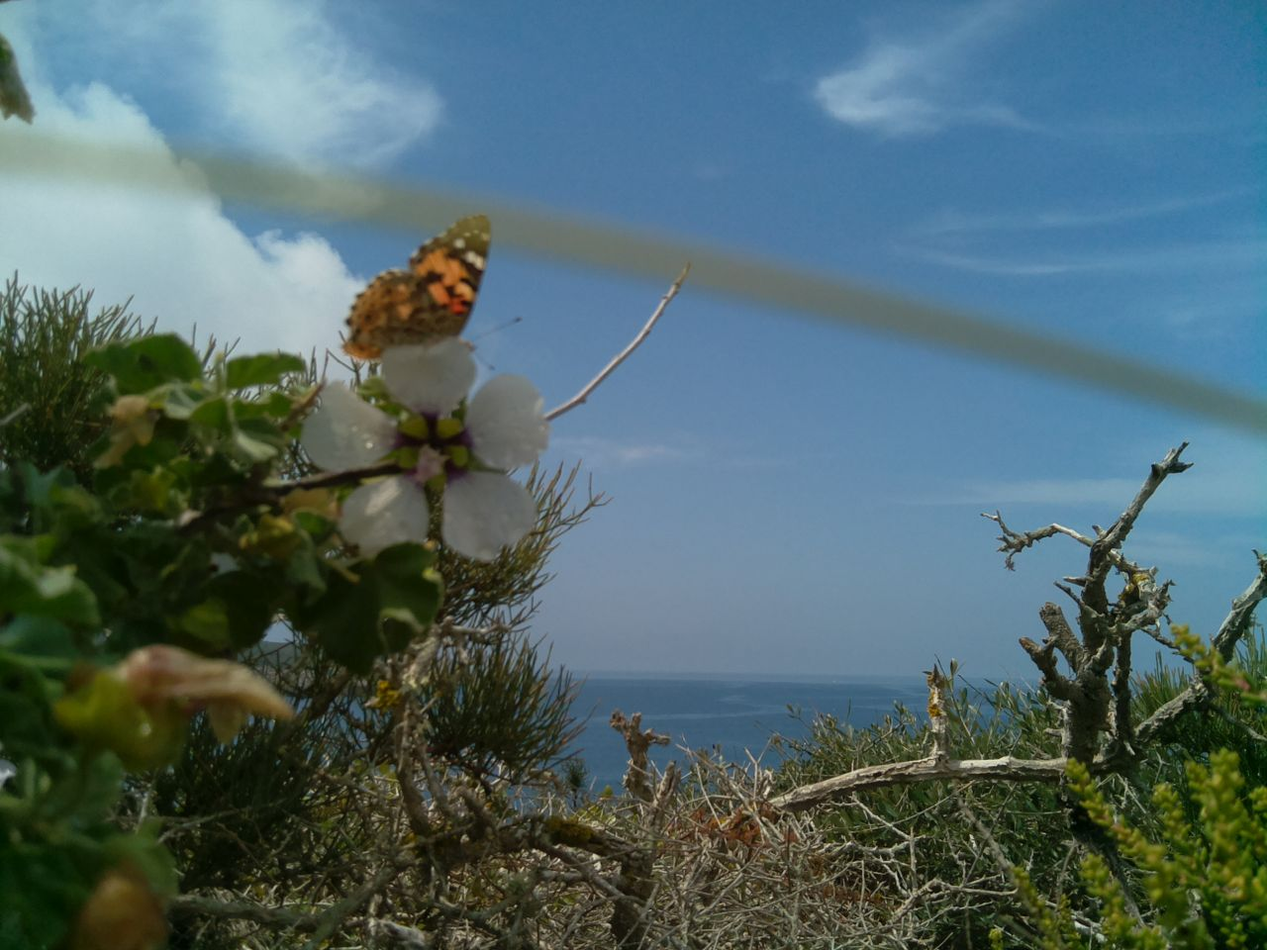Vanessa cardui: (317, 204, 550, 371)
